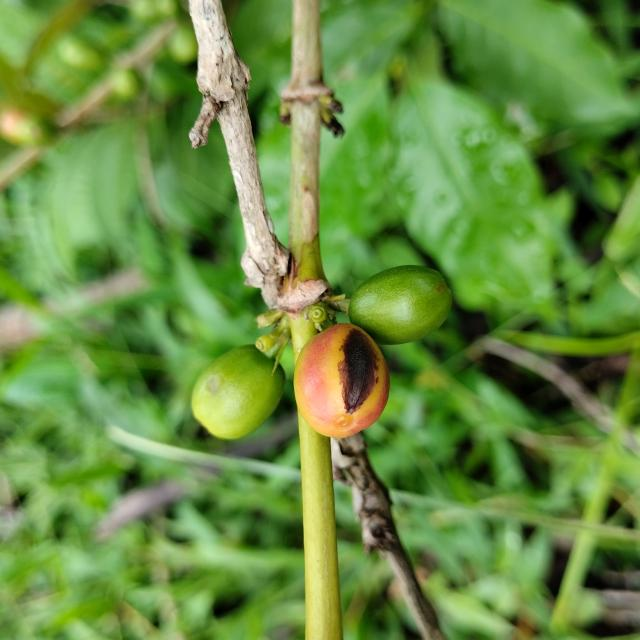green: (191, 345, 285, 439), (349, 265, 452, 345)
red: (294, 324, 390, 438)
